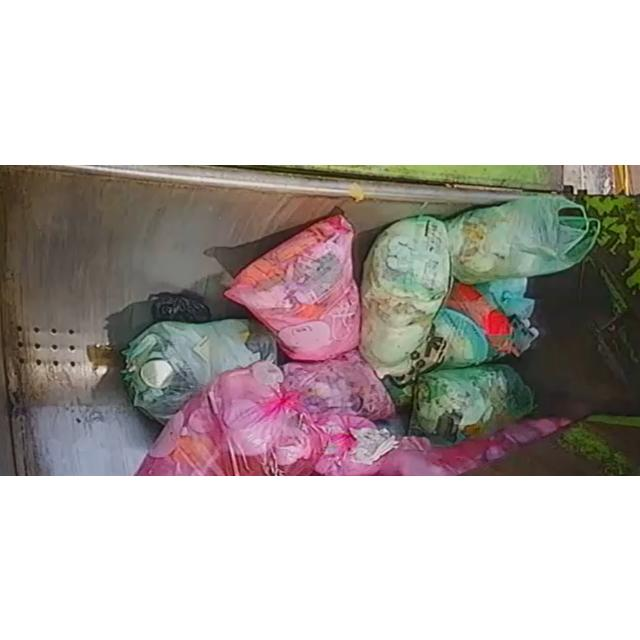general_trashbag: (122, 318, 276, 423), (360, 215, 450, 376), (446, 195, 600, 283), (409, 364, 534, 442), (395, 308, 491, 384)
other_trashbag: (138, 360, 322, 475), (225, 214, 360, 360), (282, 349, 395, 420), (315, 414, 399, 475)
